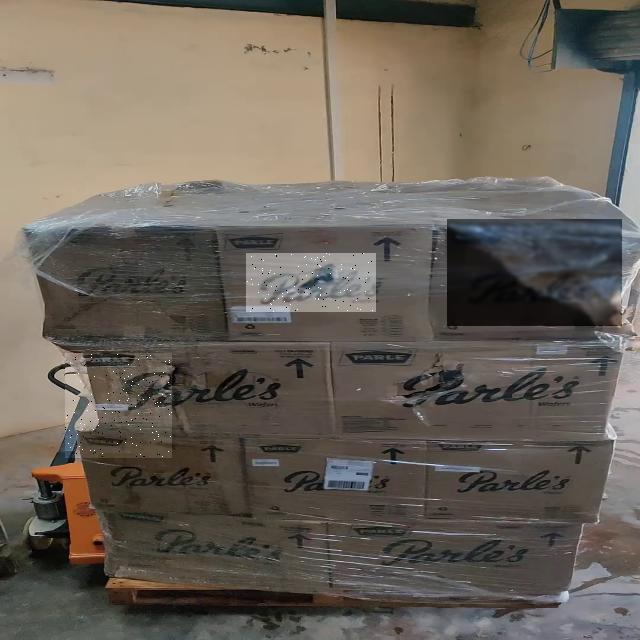squeeze: (447, 220, 620, 324), (65, 354, 172, 457)
tear: (246, 253, 376, 312)
